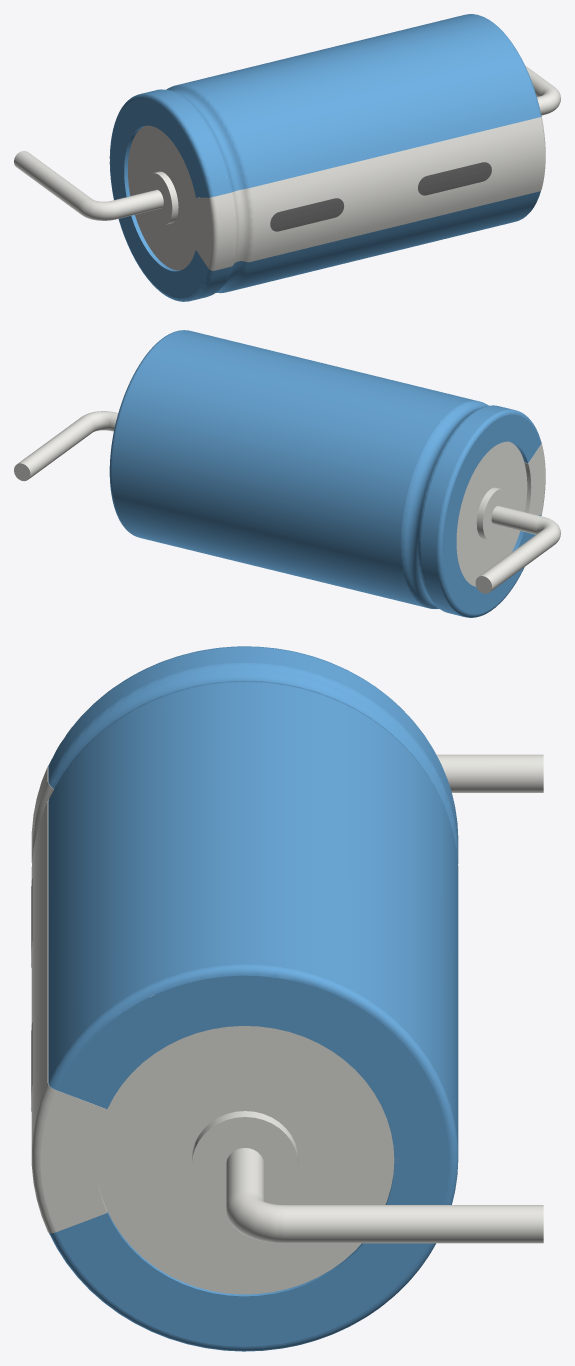
File: CP_Axial_L18.0mm_D10.0mm_P25.00mm_Horizontal.glb
3 views of the same model, one above another, from view 1: azimuth 30°, elevation 25°; view 2: azimuth 150°, elevation 25°; view 3: azimuth 270°, elevation 25° (orthographic). The views are drawn at different scales.
Parts seen in each view (by area): view 1: Shape_IndexedFaceSet.009, Shape_IndexedFaceSet.049, Shape_IndexedFaceSet.006, Shape_IndexedFaceSet.064, Shape_IndexedFaceSet, Shape_IndexedFaceSet.005, Shape_IndexedFaceSet.051, Shape_IndexedFaceSet.003, Shape_IndexedFaceSet.028, Shape_IndexedFaceSet.018, Shape_IndexedFaceSet.035, Shape_IndexedFaceSet.053 (+12 smaller); view 2: Shape_IndexedFaceSet.009, Shape_IndexedFaceSet.064, Shape_IndexedFaceSet.006, Shape_IndexedFaceSet, Shape_IndexedFaceSet.005, Shape_IndexedFaceSet.003, Shape_IndexedFaceSet.055, Shape_IndexedFaceSet.051, Shape_IndexedFaceSet.007, Shape_IndexedFaceSet.053, Shape_IndexedFaceSet.041, Shape_IndexedFaceSet.062 (+4 smaller); view 3: Shape_IndexedFaceSet.009, Shape_IndexedFaceSet.059, Shape_IndexedFaceSet.012, Shape_IndexedFaceSet.055, Shape_IndexedFaceSet.011, Shape_IndexedFaceSet.046, Shape_IndexedFaceSet, Shape_IndexedFaceSet.057, Shape_IndexedFaceSet.049, Shape_IndexedFaceSet.005, Shape_IndexedFaceSet.051, Shape_IndexedFaceSet.002 (+3 smaller).
Part boxes in pixels (x1,y1,x2,y2): Shape_IndexedFaceSet.009: [178, 14, 539, 291]; Shape_IndexedFaceSet.049: [250, 117, 543, 261]; Shape_IndexedFaceSet.006: [110, 98, 208, 298]; Shape_IndexedFaceSet.064: [128, 125, 198, 270]; Shape_IndexedFaceSet: [142, 89, 230, 300]; Shape_IndexedFaceSet.005: [167, 87, 245, 292]; Shape_IndexedFaceSet.051: [14, 150, 91, 213]; Shape_IndexedFaceSet.003: [109, 93, 214, 301]; Shape_IndexedFaceSet.028: [270, 198, 344, 231]; Shape_IndexedFaceSet.018: [418, 162, 491, 195]; Shape_IndexedFaceSet.035: [214, 193, 234, 270]; Shape_IndexedFaceSet.053: [112, 96, 546, 218]; Shape_IndexedFaceSet.009: [112, 330, 476, 607]; Shape_IndexedFaceSet.064: [456, 441, 527, 586]; Shape_IndexedFaceSet.006: [442, 414, 540, 614]; Shape_IndexedFaceSet: [421, 405, 512, 616]; Shape_IndexedFaceSet.005: [405, 403, 487, 608]; Shape_IndexedFaceSet.003: [436, 409, 541, 617]; Shape_IndexedFaceSet.055: [18, 415, 95, 479]; Shape_IndexedFaceSet.051: [479, 528, 556, 591]; Shape_IndexedFaceSet.007: [401, 400, 488, 609]; Shape_IndexedFaceSet.053: [108, 412, 543, 534]; Shape_IndexedFaceSet.041: [528, 445, 544, 515]; Shape_IndexedFaceSet.062: [483, 489, 509, 540]; Shape_IndexedFaceSet.009: [48, 682, 458, 1152]; Shape_IndexedFaceSet.059: [96, 1026, 394, 1294]; Shape_IndexedFaceSet.012: [56, 975, 449, 1346]; Shape_IndexedFaceSet.055: [283, 1205, 543, 1243]; Shape_IndexedFaceSet.011: [48, 964, 458, 1351]; Shape_IndexedFaceSet.046: [40, 1090, 106, 1232]; Shape_IndexedFaceSet: [48, 647, 458, 846]; Shape_IndexedFaceSet.057: [192, 1117, 298, 1209]; Shape_IndexedFaceSet.049: [31, 802, 47, 1148]; Shape_IndexedFaceSet.005: [51, 669, 451, 826]; Shape_IndexedFaceSet.051: [436, 754, 543, 792]; Shape_IndexedFaceSet.002: [48, 662, 458, 863].
Bounding box in the file's own units: 10.19 × 3.94 × 4.73.
